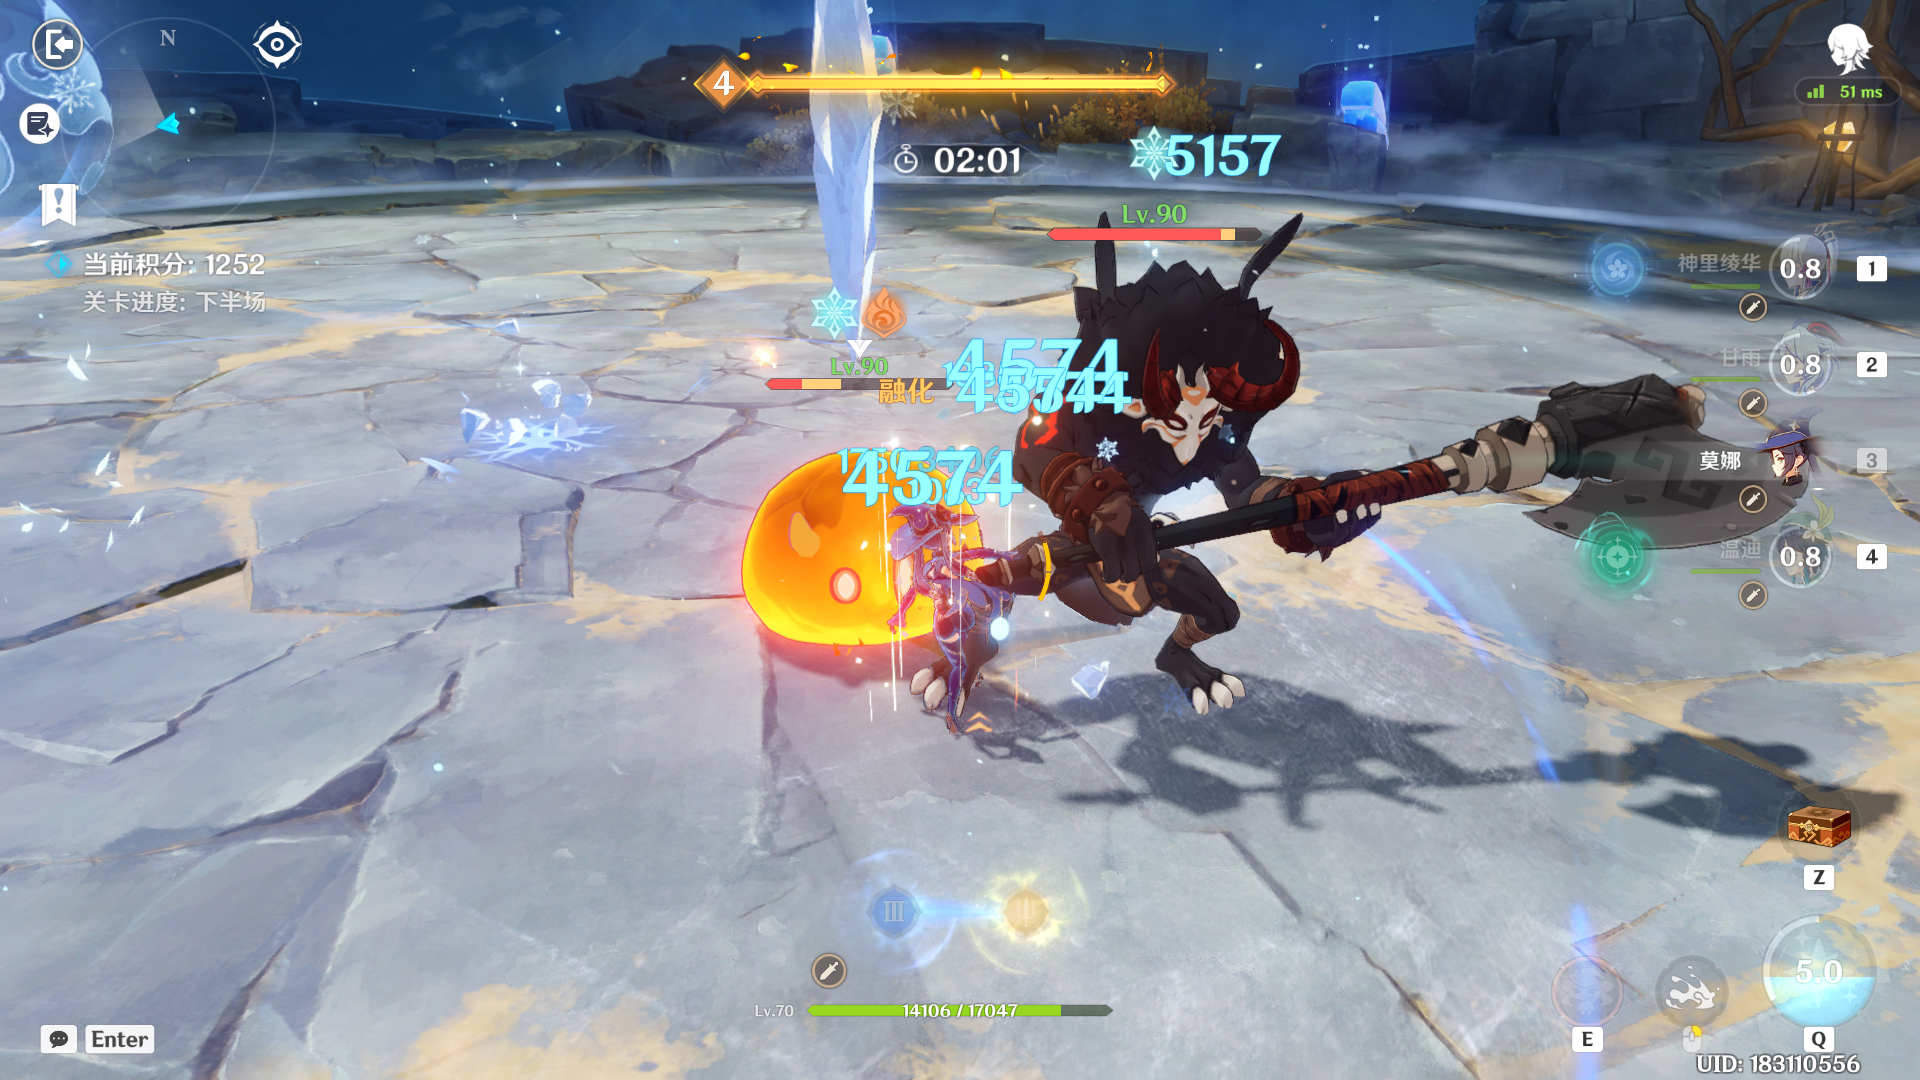bighili: (963, 182, 1452, 738)
character: (852, 500, 1054, 778)
slime: (752, 406, 990, 688)
